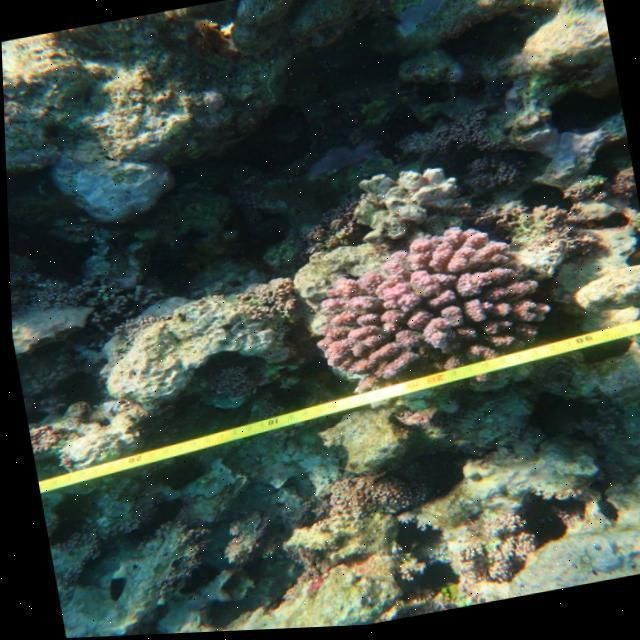Healthy Coral: (302, 208, 555, 403)
